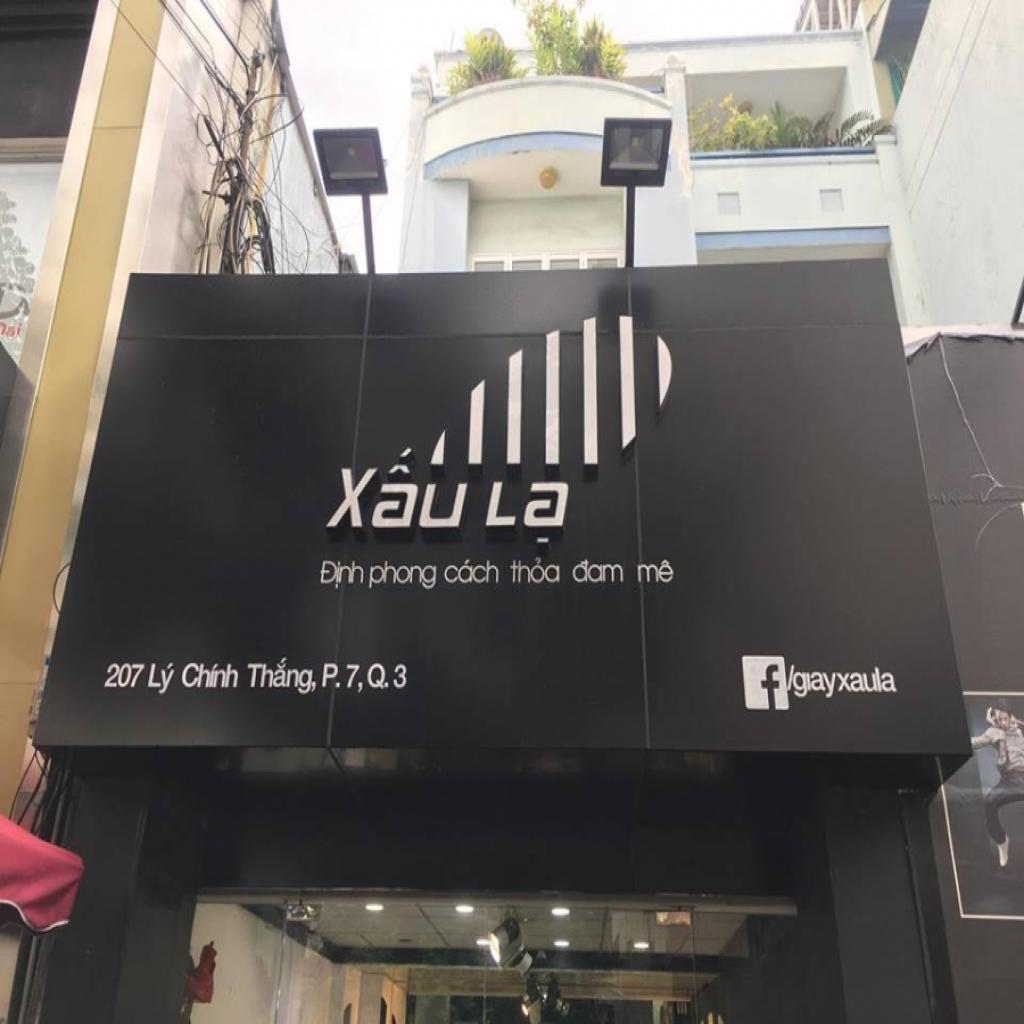text: (321, 441, 478, 534), (476, 480, 574, 550), (243, 654, 321, 696), (366, 560, 438, 593), (180, 661, 243, 692), (442, 560, 500, 586), (318, 558, 364, 590), (511, 556, 560, 586), (321, 662, 366, 694), (572, 558, 625, 584), (102, 663, 147, 690), (146, 663, 178, 698), (637, 558, 676, 584)
